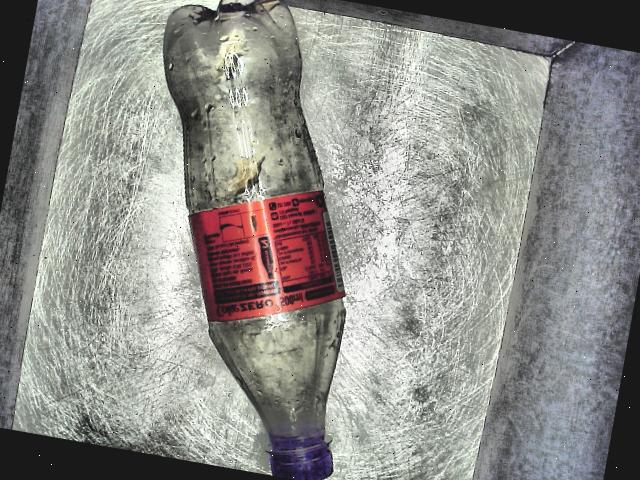Bottles: (81, 0, 436, 480)
